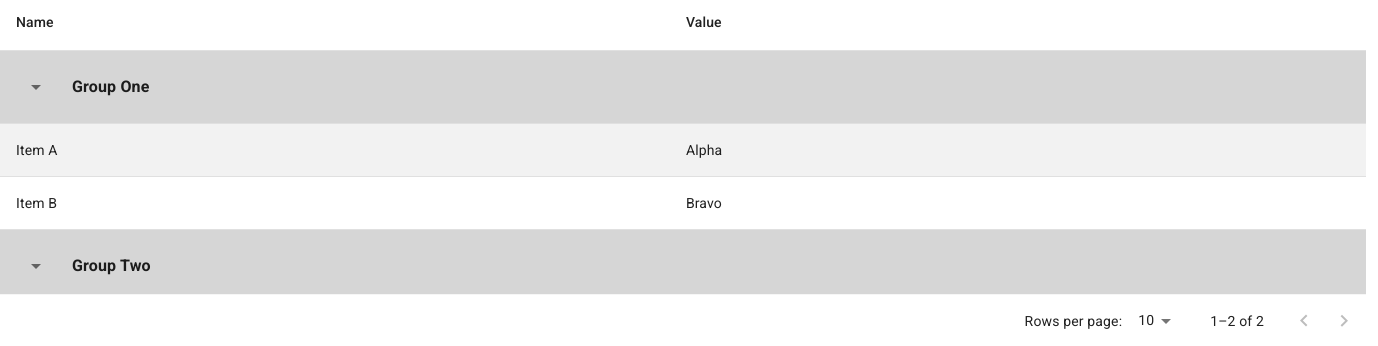
PmxGroupedTable › toggles group expansion
Step 1. Click the button without text next to "Group One" → point(36, 87), box left=16, top=67, right=56, bottom=107
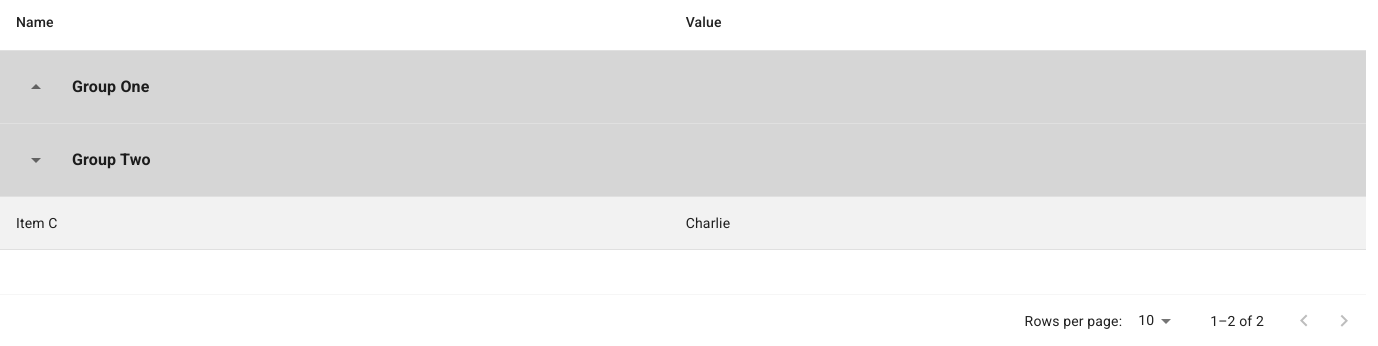
expect the text "Item A" is gone: met
expect the text "Item B" is gone: met
